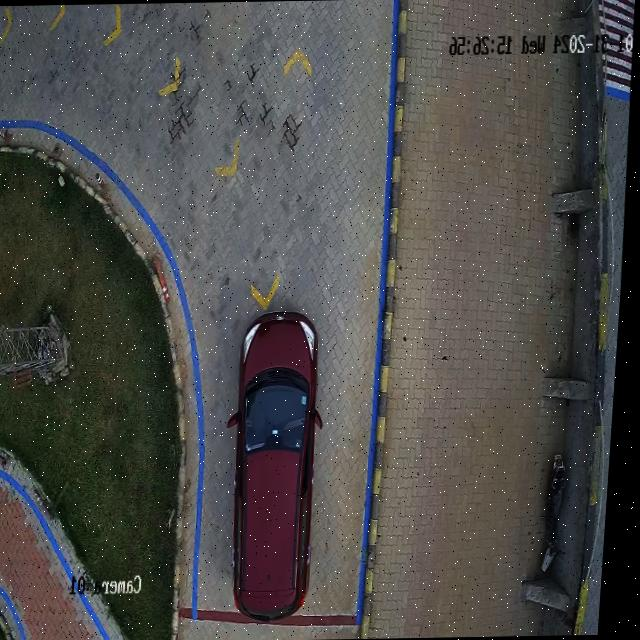car: (233, 311, 327, 621)
